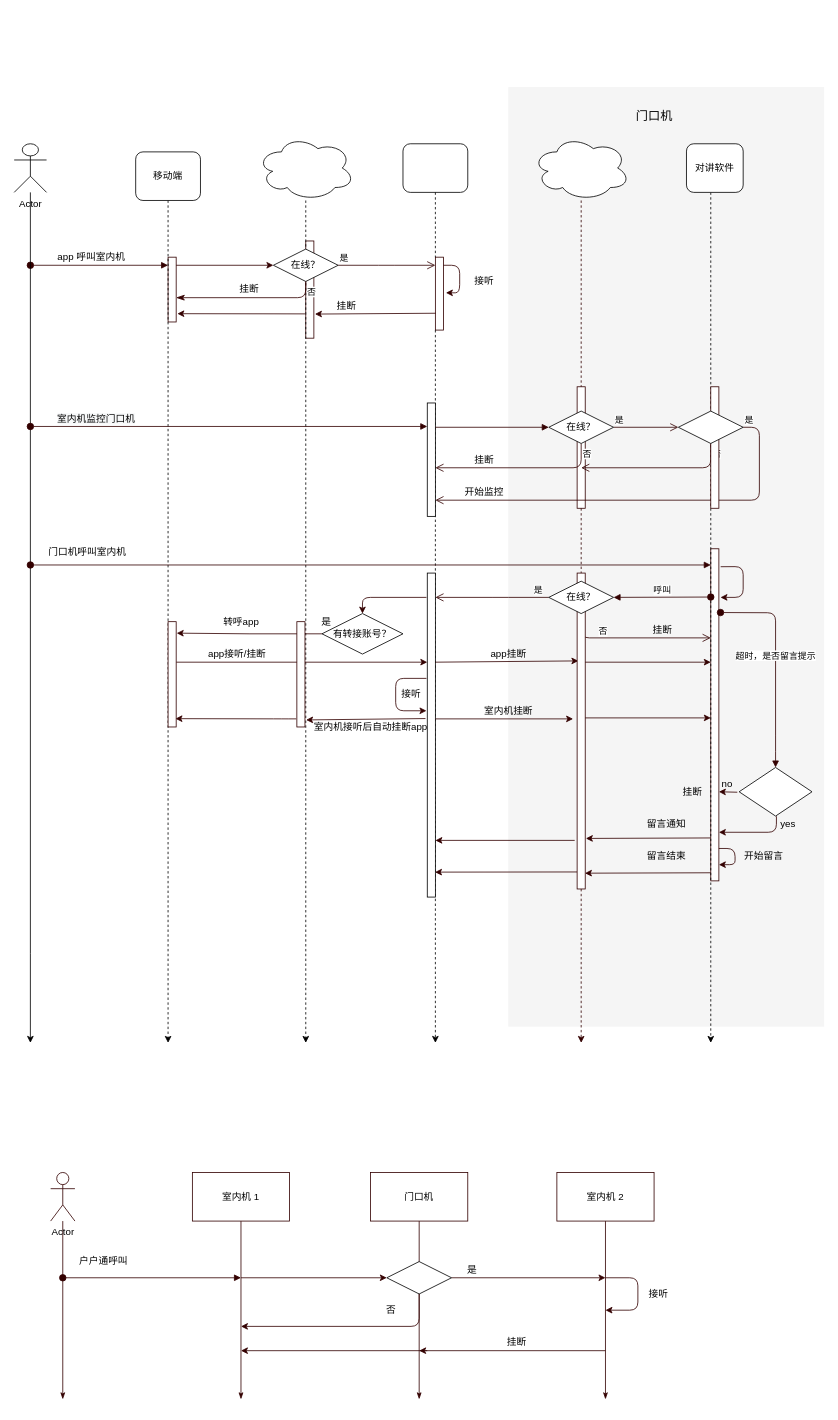
This 838x1420 diagram has some shape labels left out. The shapes that lost their labels are listed below. From the top down, each one's centre as x and y in pixels, then its label:
[305,167]: 云端sip
[435,167]: 室内机
[581,167]: 本地sip
[710,426]: 允许监控？
[775,791]: 是否留言？
[419,1277]: 对方在线？
